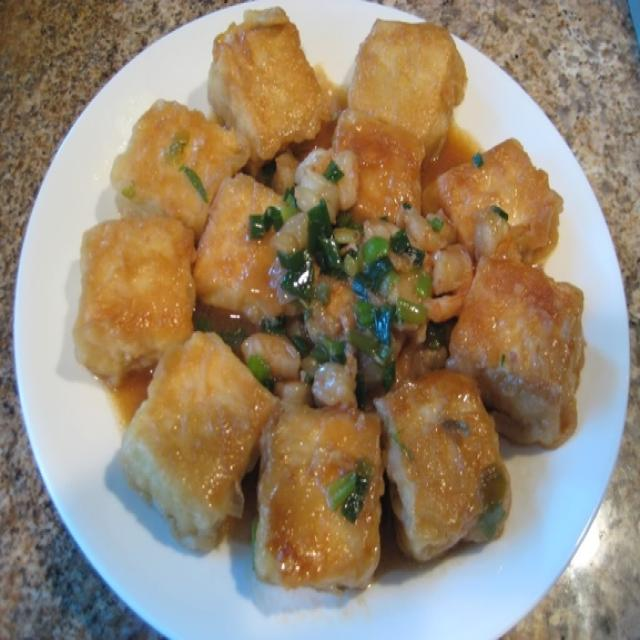豆腐料理: (51, 11, 609, 610)
